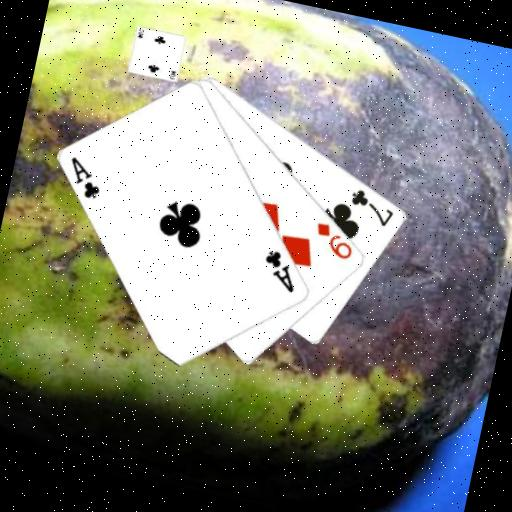7C: (343, 184, 399, 230)
9D: (307, 218, 359, 263)
AC: (255, 245, 303, 295), (61, 152, 108, 203)
